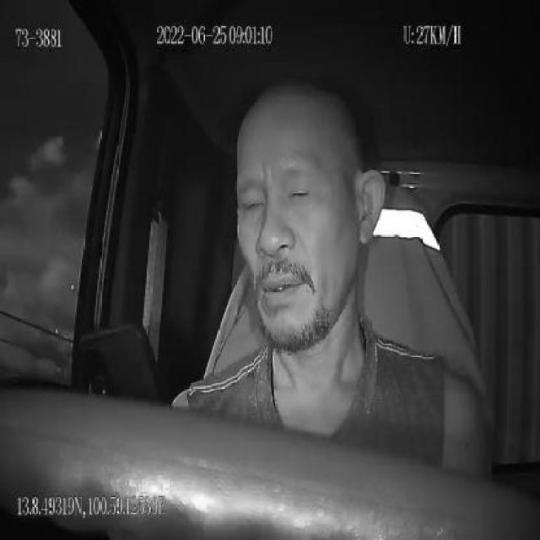phone: (78, 319, 168, 409)
